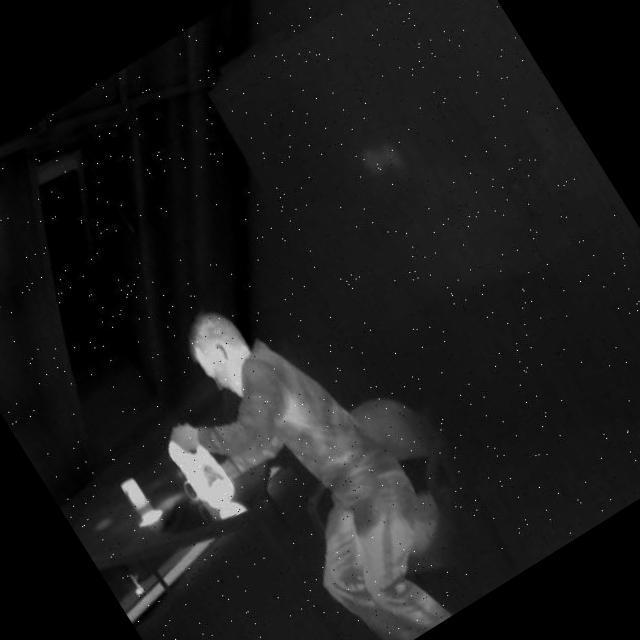person: (108, 233, 523, 640)
